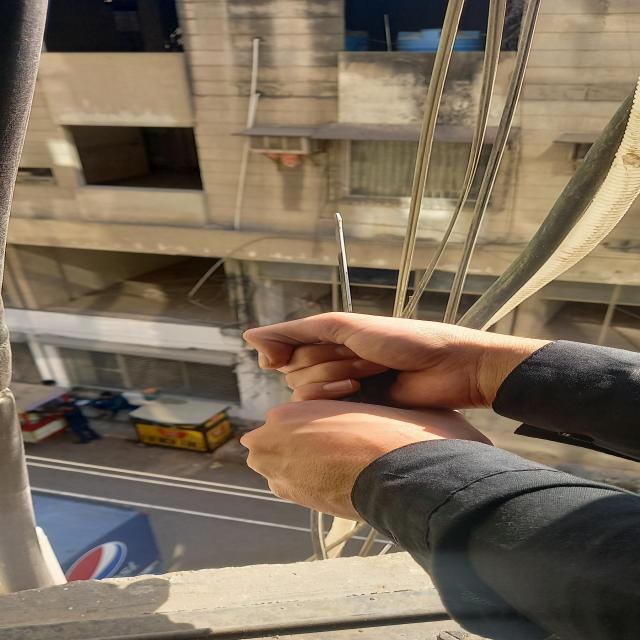weapon: (333, 214, 356, 313)
